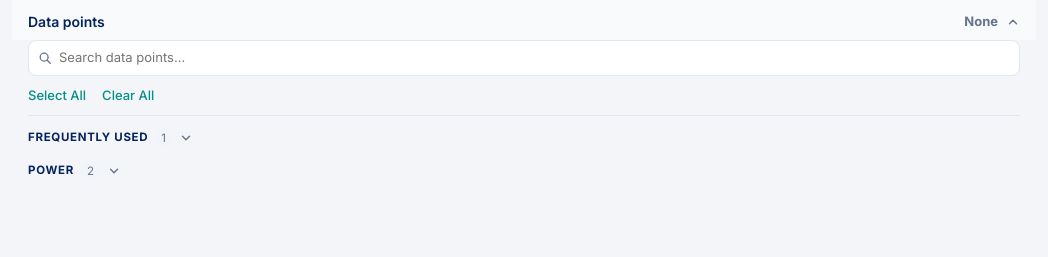
Scenario: DataPointSelector follows the draft range › offers Energy Export for an overlapping range, hides it for a range in its gap, current Energy always
Click the button "Power 2". click: click(74, 171)
box: [28,155,121,187]
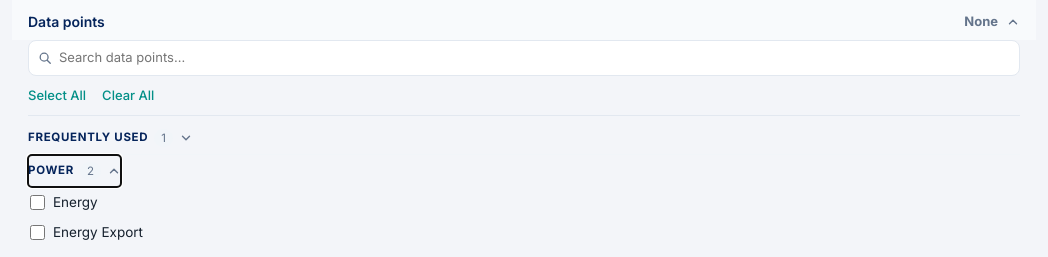
Expected: the number of checkboxes labelled "Energy Export" is 1, [30,224,45,240]
